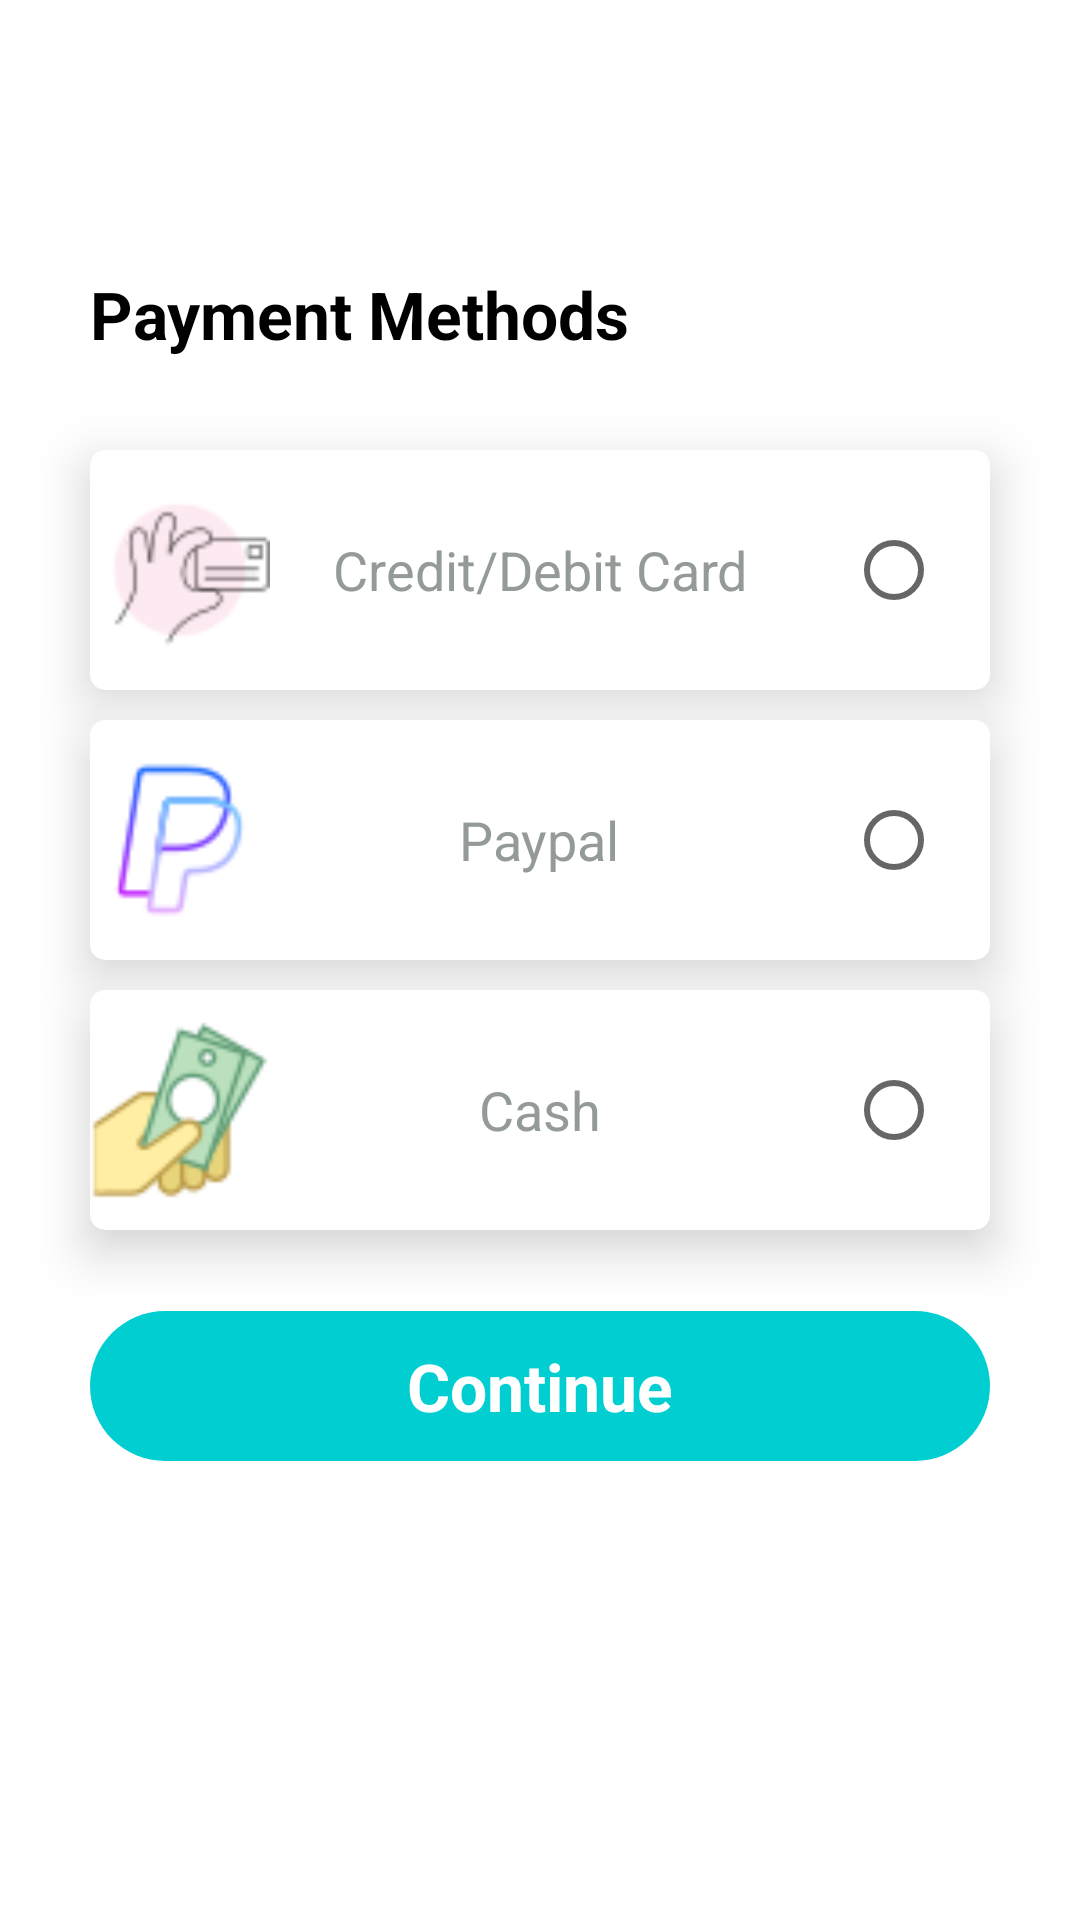

Screen size 1080×1920. Icon name, then its center in pixels as (x=x, y=y):
cardicon: (x=192, y=577)
cashicon: (x=179, y=1110)
